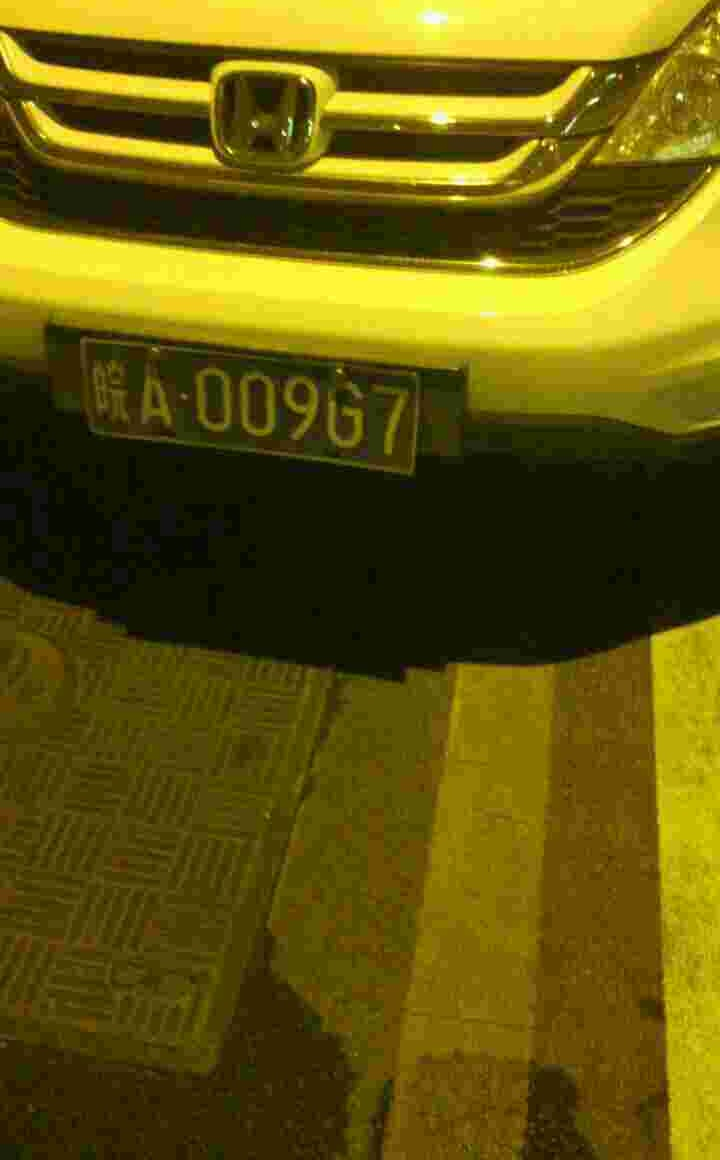license_plate: (72, 351, 420, 450)
